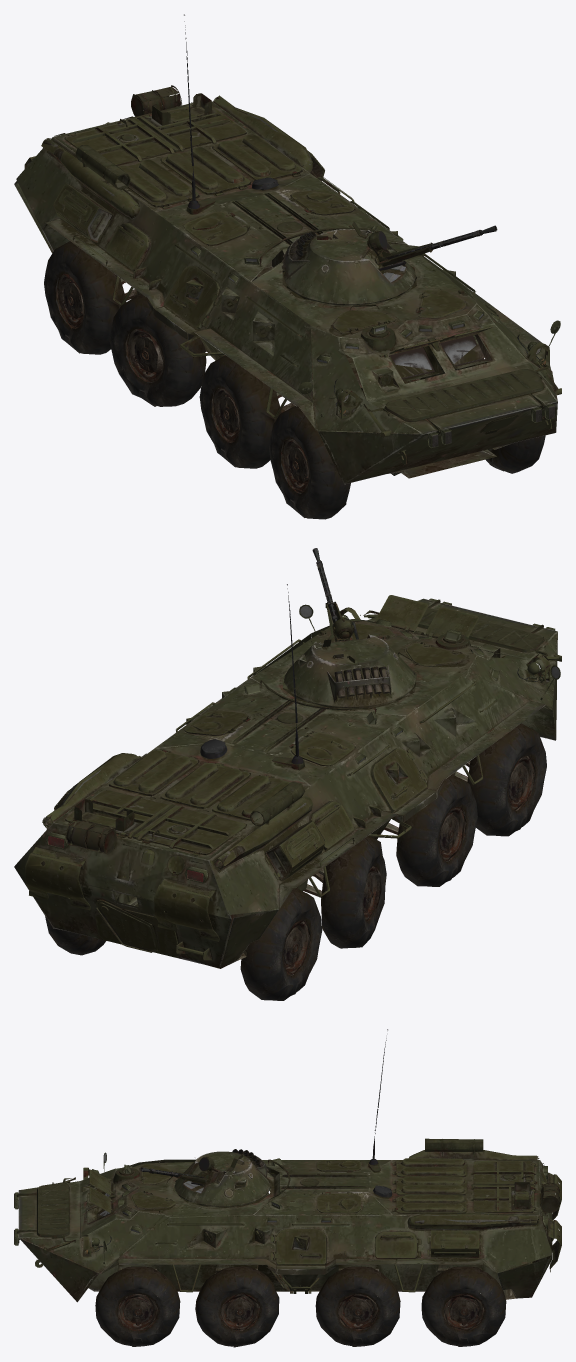
Rendered from wreck_btr80.glb.
3 renders of one model, top to bottom at view 1: azimuth 30°, elevation 25°; view 2: azimuth 150°, elevation 25°; view 3: azimuth 270°, elevation 25°, orthographic. The views are drawn at different scales.
Parts seen in each view (by area): view 1: MainFrame_MetalBase_0, MainFrame_Details_0, Wheels_Wheels_0, Turret_MetalBase_0, MainFrame_Lights_0, Turret_Details_0; view 2: MainFrame_MetalBase_0, MainFrame_Details_0, Wheels_Wheels_0, Turret_MetalBase_0, MainFrame_Lights_0, Turret_Details_0; view 3: MainFrame_MetalBase_0, MainFrame_Details_0, Wheels_Wheels_0, Turret_MetalBase_0, MainFrame_Lights_0, Turret_Details_0.
Part boxes in pixels (box(x1,y1,x2,y2)): MainFrame_MetalBase_0: box(14, 101, 557, 484); MainFrame_Details_0: box(24, 14, 561, 464); Wheels_Wheels_0: box(44, 241, 545, 519); Turret_MetalBase_0: box(284, 229, 416, 306); MainFrame_Lights_0: box(190, 207, 560, 448); Turret_Details_0: box(281, 222, 497, 282); MainFrame_MetalBase_0: box(14, 598, 557, 968); MainFrame_Details_0: box(25, 584, 561, 960); Wheels_Wheels_0: box(45, 723, 546, 1000); Turret_MetalBase_0: box(284, 634, 415, 708); MainFrame_Lights_0: box(45, 598, 560, 883); Turret_Details_0: box(312, 548, 389, 698); MainFrame_MetalBase_0: box(18, 1159, 552, 1302); MainFrame_Details_0: box(16, 1029, 561, 1293); Wheels_Wheels_0: box(95, 1265, 506, 1347); Turret_MetalBase_0: box(174, 1151, 270, 1207); MainFrame_Lights_0: box(14, 1152, 548, 1263); Turret_Details_0: box(140, 1149, 268, 1193).
Bounding box in the file's own units: 3.06 × 4.06 × 7.65.
4 materials, 4 textured.
